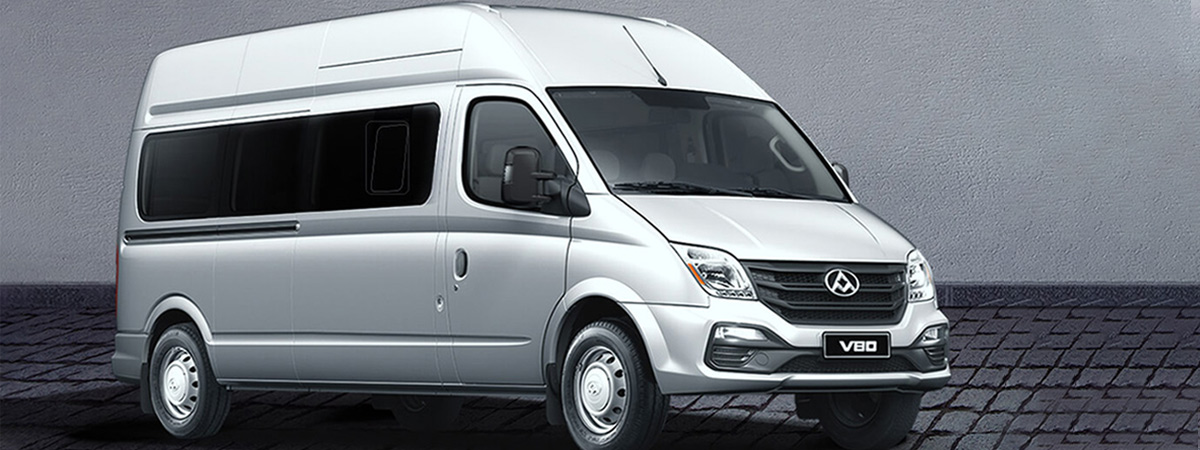van: (110, 2, 958, 450)
